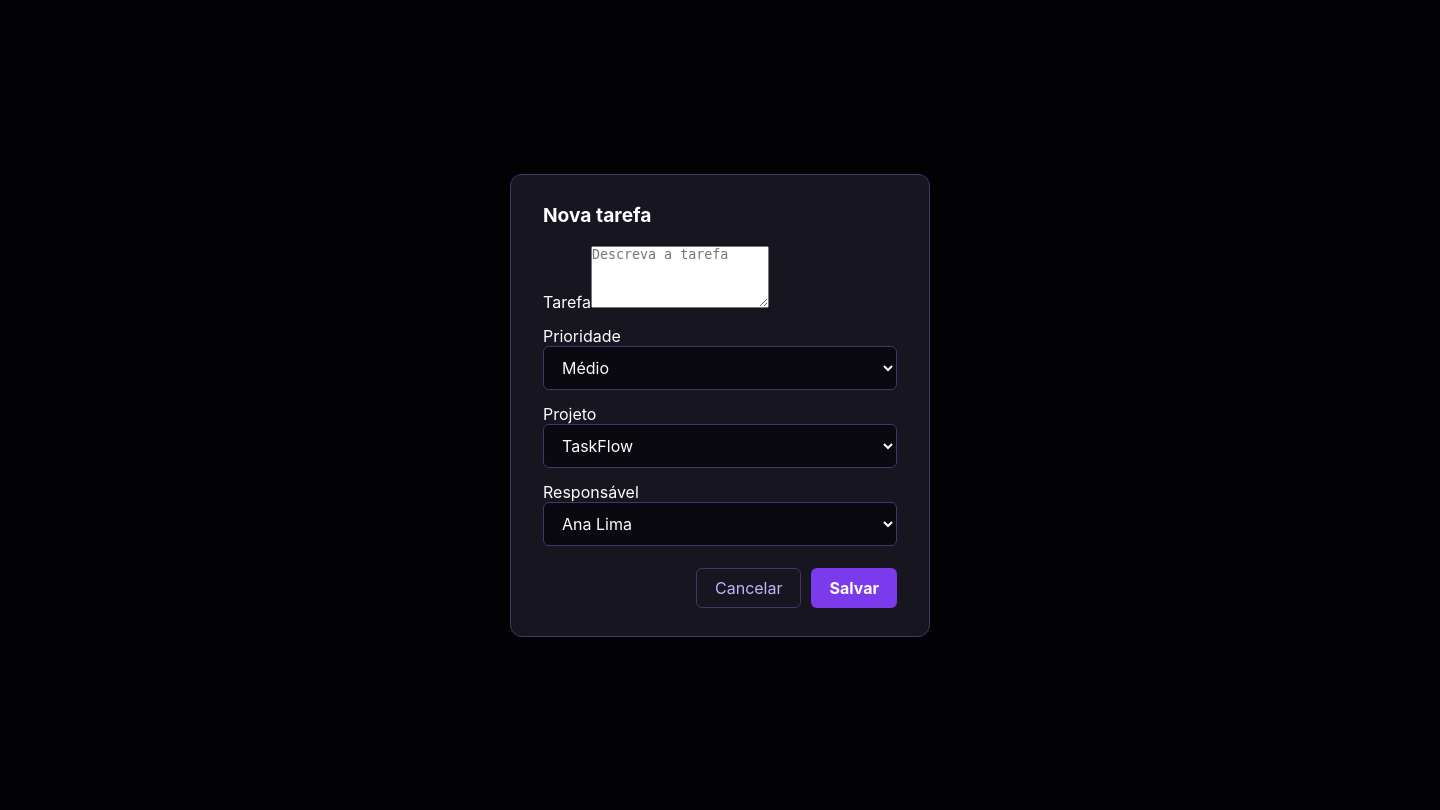
ModalTarefa › a API recusa: mostra os erros e não fecha
In the text box labelled "Tarefa": {"x": 680, "y": 276} [591,246,769,308], type "Estudar mocks"
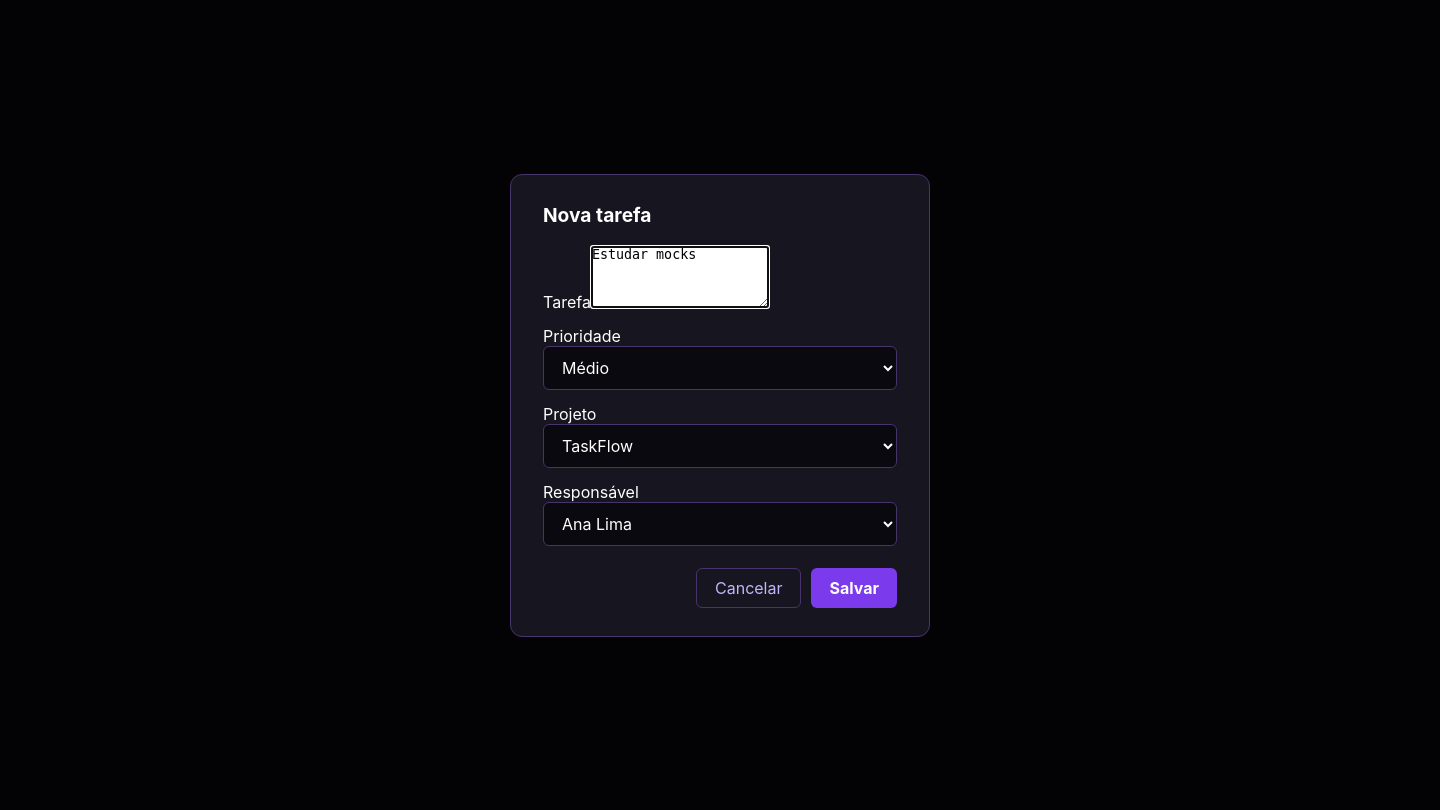
Click the button "Salvar": {"x": 854, "y": 588} [812,568,897,608]
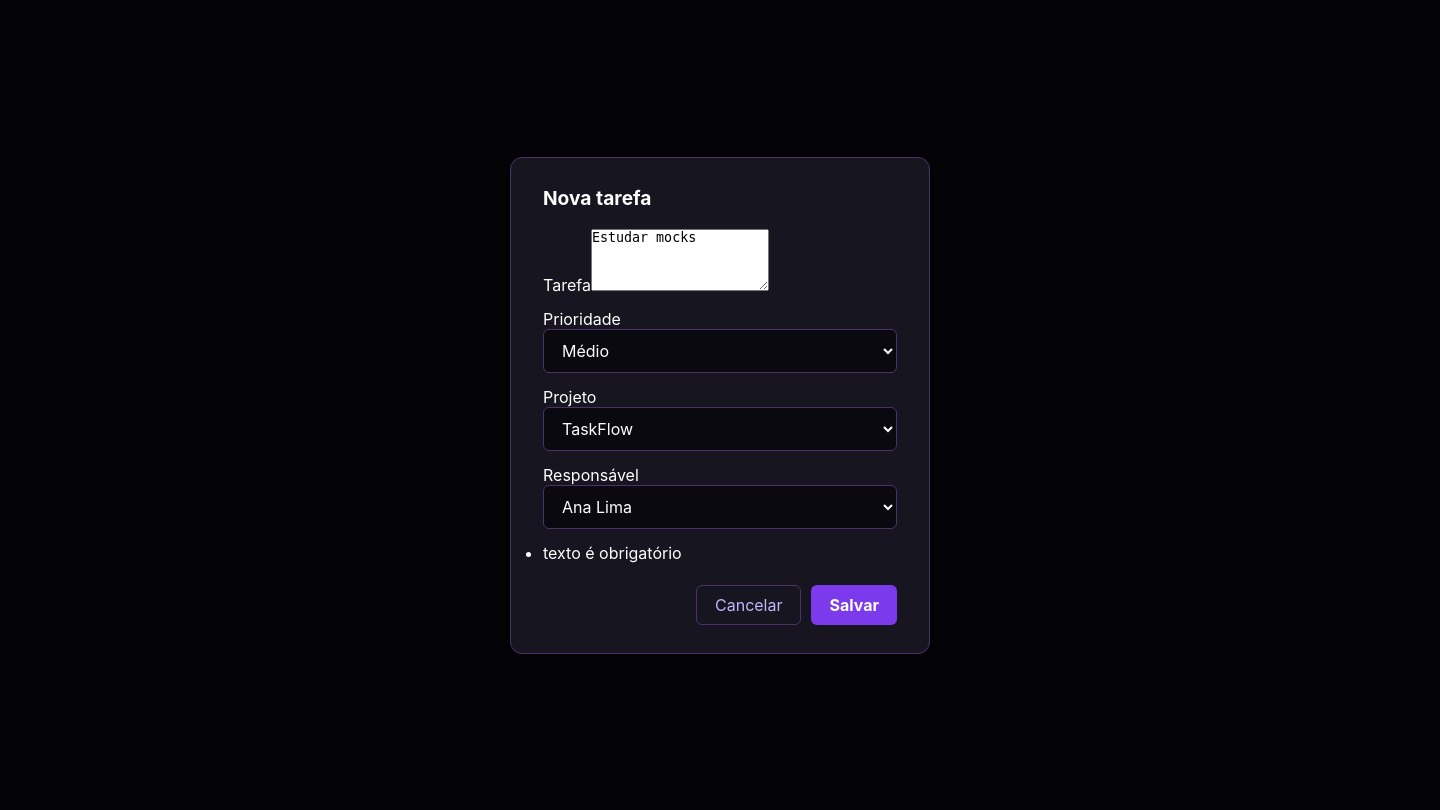
Expected: the list item "texto é obrigatório" is shown, [543,542,682,562]
